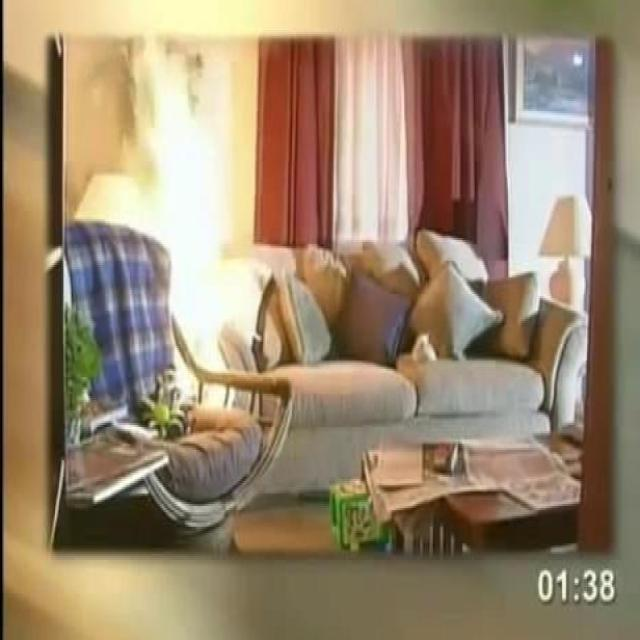smoke: (124, 70, 248, 338)
